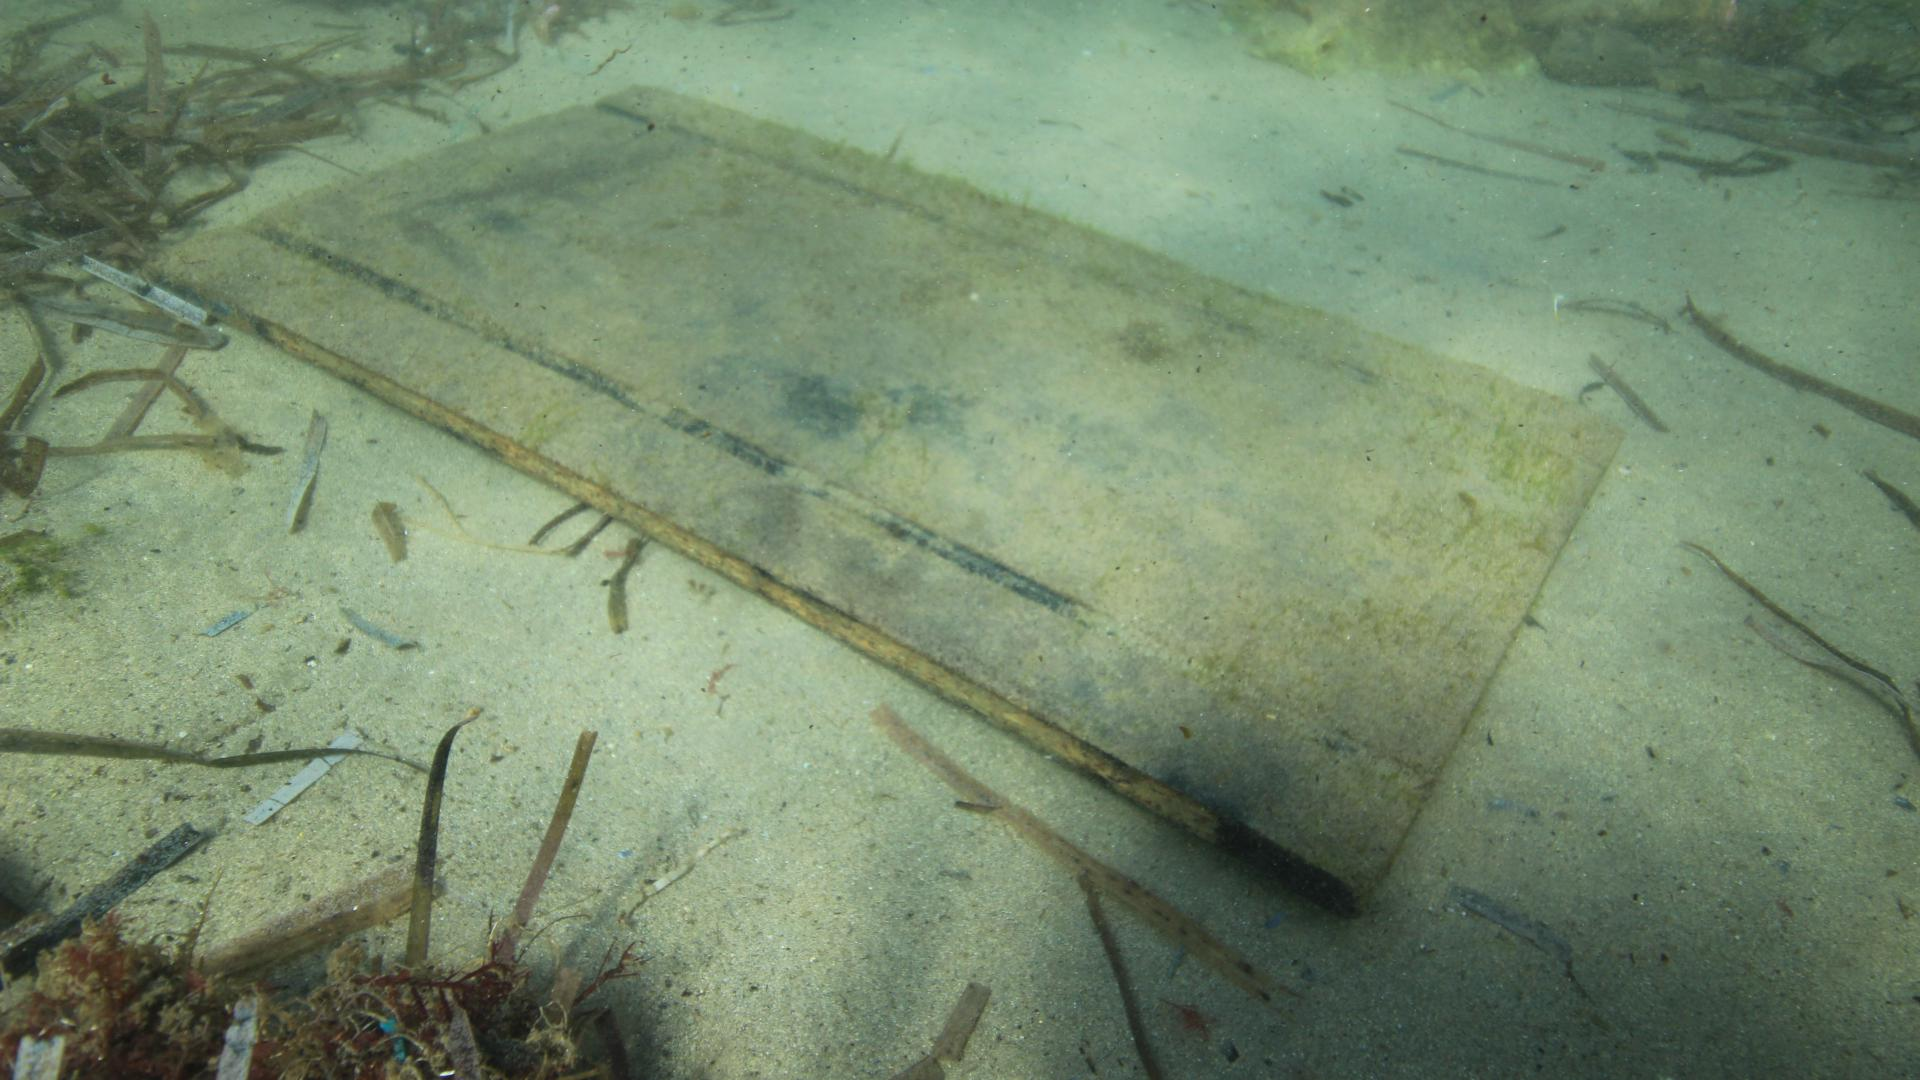wood: (146, 84, 1626, 915)
